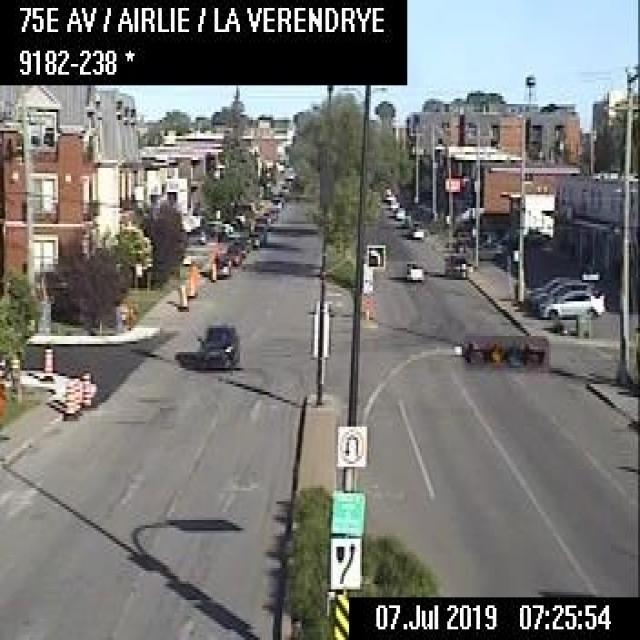construction: (60, 377, 75, 416), (78, 368, 90, 407), (40, 344, 53, 379), (187, 260, 198, 298), (70, 373, 80, 412), (178, 281, 186, 309), (9, 351, 18, 372), (209, 264, 216, 277)
vehicle: (537, 286, 604, 319), (531, 277, 592, 309), (196, 320, 238, 365), (444, 251, 466, 277), (210, 250, 231, 275), (404, 259, 422, 280), (223, 241, 240, 263), (408, 220, 423, 237), (252, 221, 265, 240), (245, 230, 258, 245), (393, 204, 404, 217), (388, 199, 397, 208)
